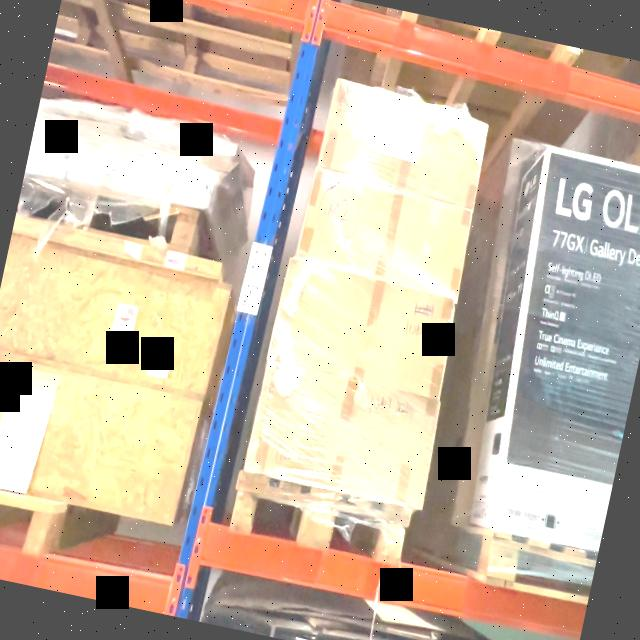box: (244, 368, 441, 507), (267, 261, 458, 400), (296, 184, 472, 293), (316, 93, 488, 201)
